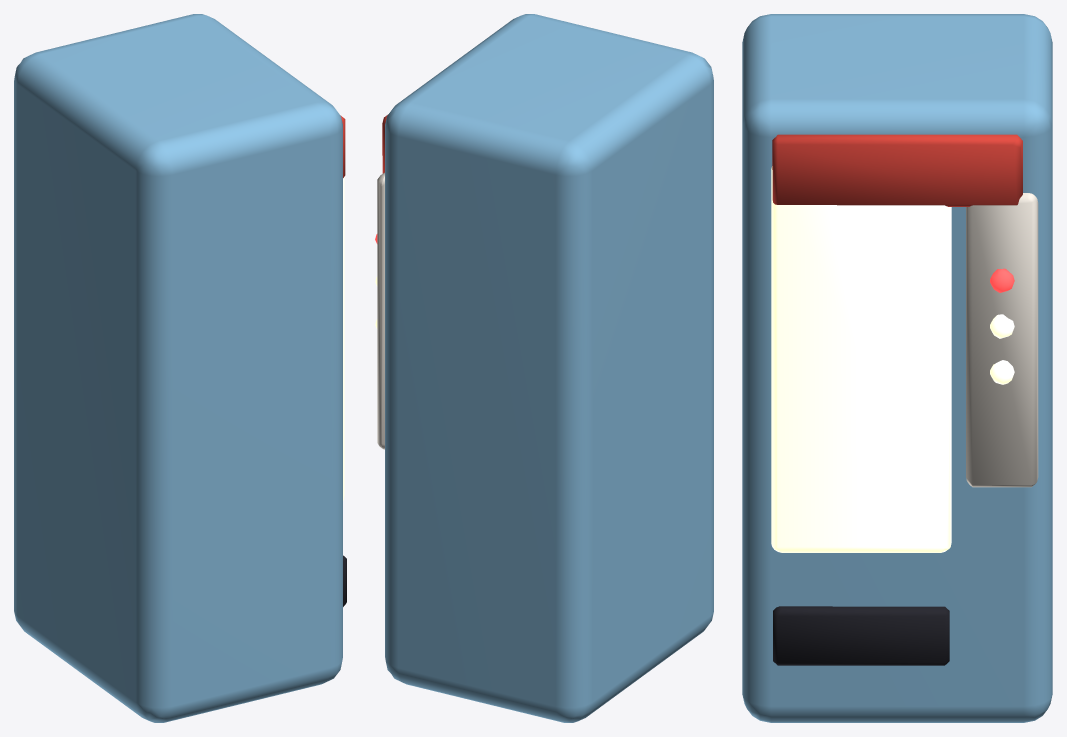
Rendered from vending.glb.
3 renders of one model, left to right at view 1: azimuth 30°, elevation 25°; view 2: azimuth 150°, elevation 25°; view 3: azimuth 270°, elevation 25°, orthographic. The views are drawn at different scales.
Visible parts, largest first — view 1: vending; view 2: vending; view 3: vending.
Boxes of the visible parts, bbox=[...] form: vending: bbox=[14, 14, 346, 722]; vending: bbox=[375, 14, 713, 722]; vending: bbox=[742, 14, 1052, 722].
Bounding box in the file's own units: 0.7747 × 1.9 × 0.8601.
Materials: 1 (1 with a texture image).
